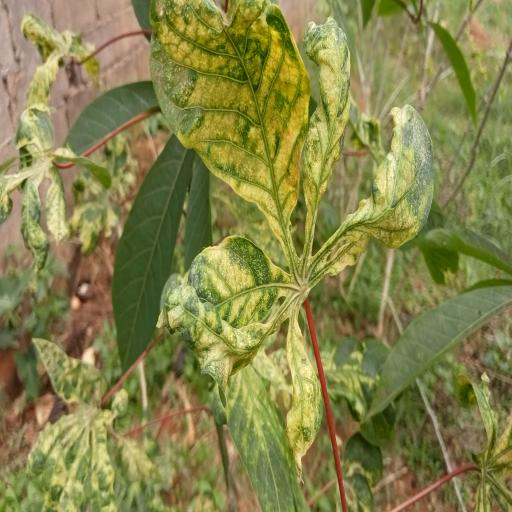Cassava_Mosaic: (148, 0, 439, 483)
